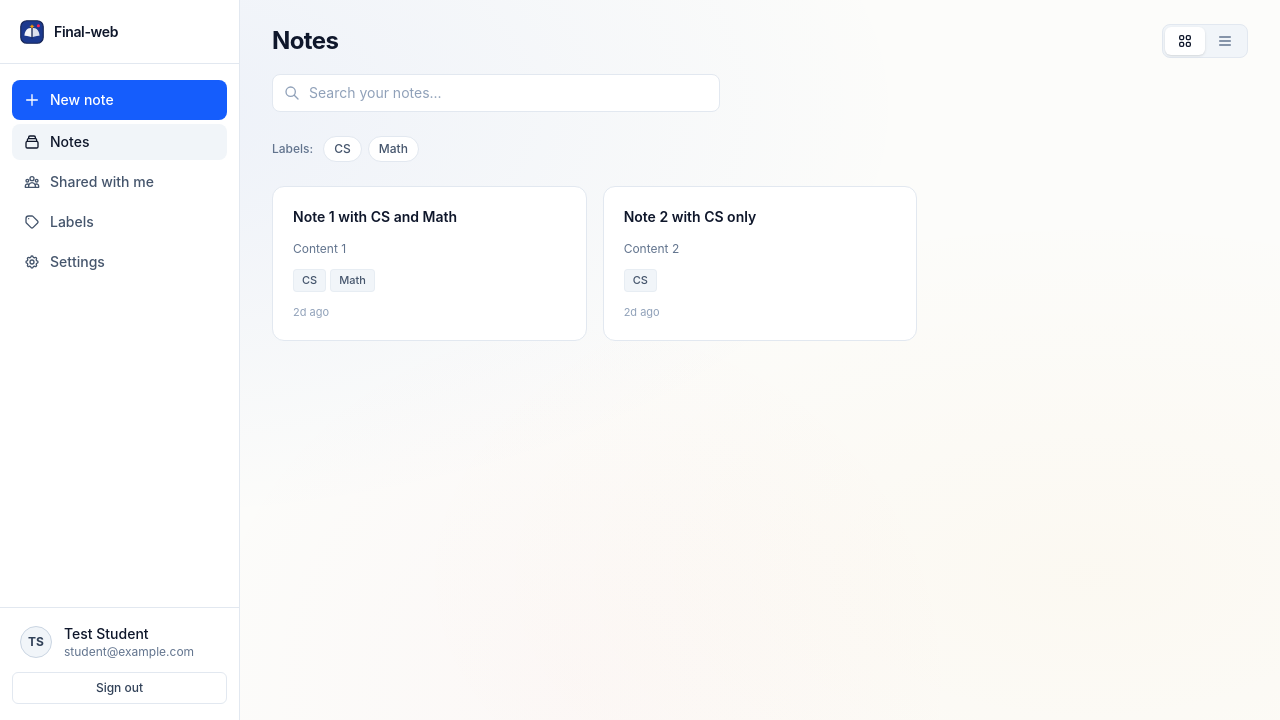
Test: LABEL-03 Label Filtering › clears label filters when clear button is clicked
expect the element with test id "label-filters-bar" is shown: met, box [272, 136, 419, 162]
Click the button with test id "label-filter-chip" at (342,149), box [323, 136, 362, 162]
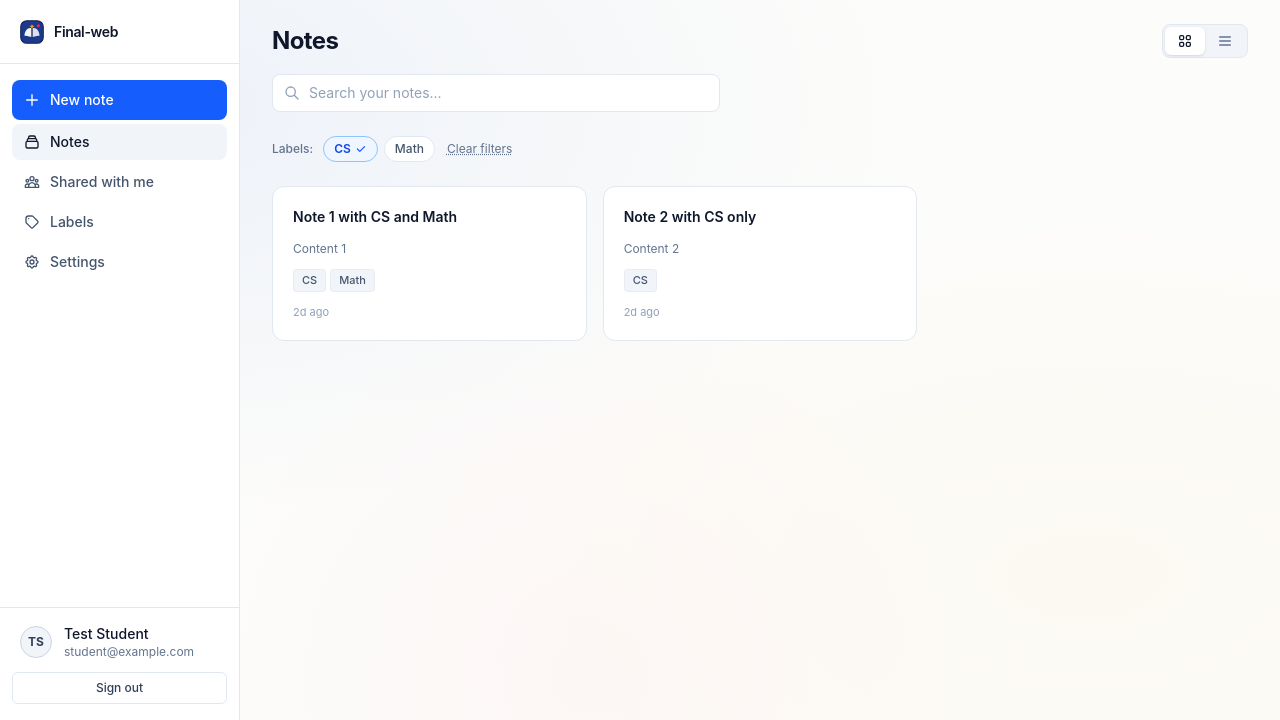
Click the button with test id "clear-label-filters-button" at (480,149), box [447, 141, 512, 157]
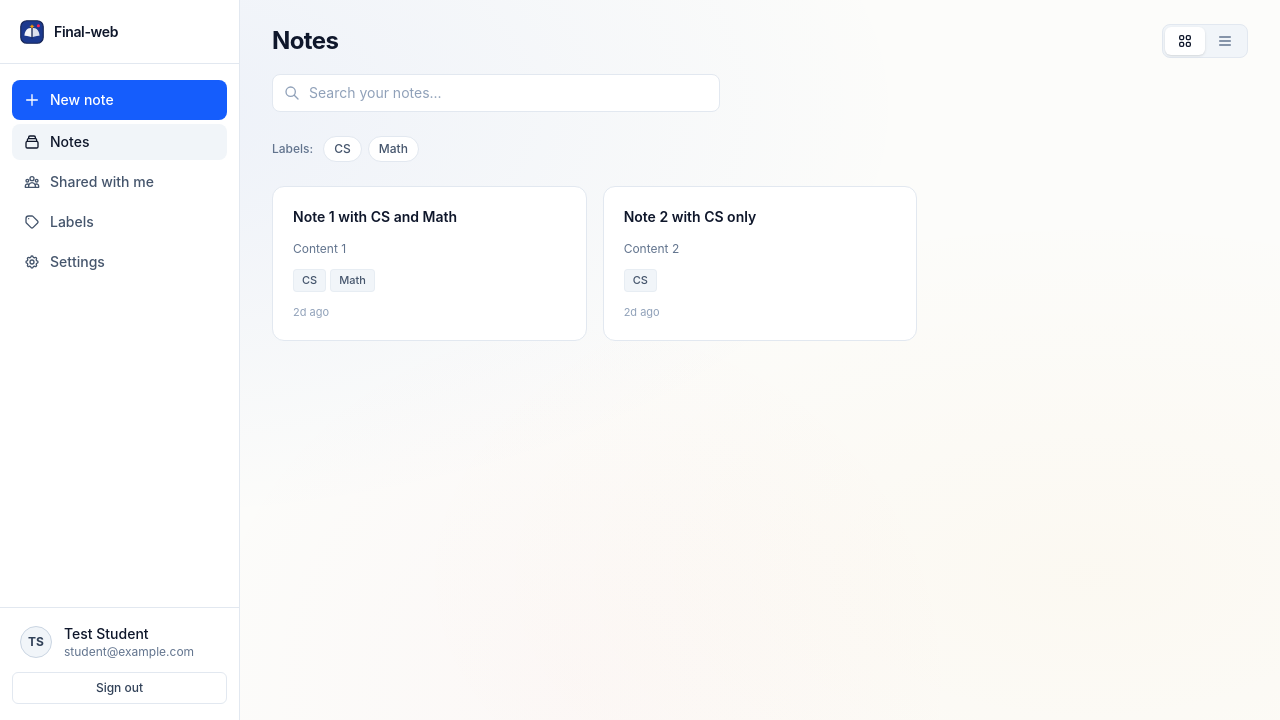
expect the button with test id "clear-label-filters-button" is gone: met
